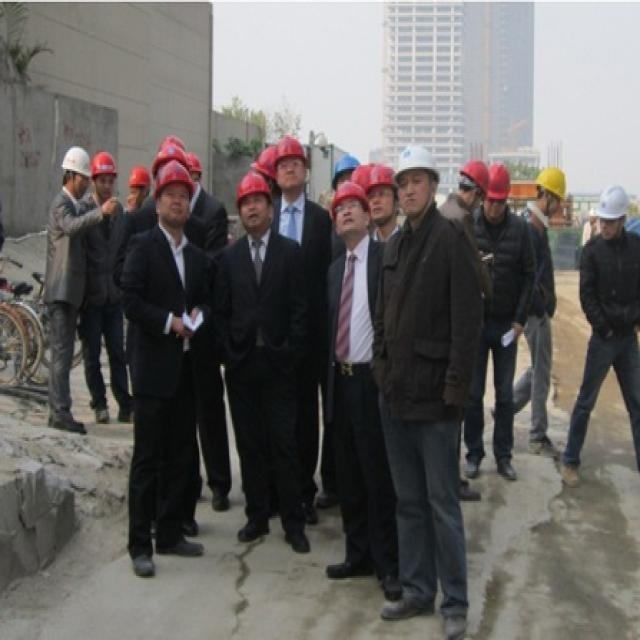Con_Casco: (235, 170, 272, 237), (533, 164, 567, 224), (60, 143, 93, 201), (595, 183, 630, 233)
